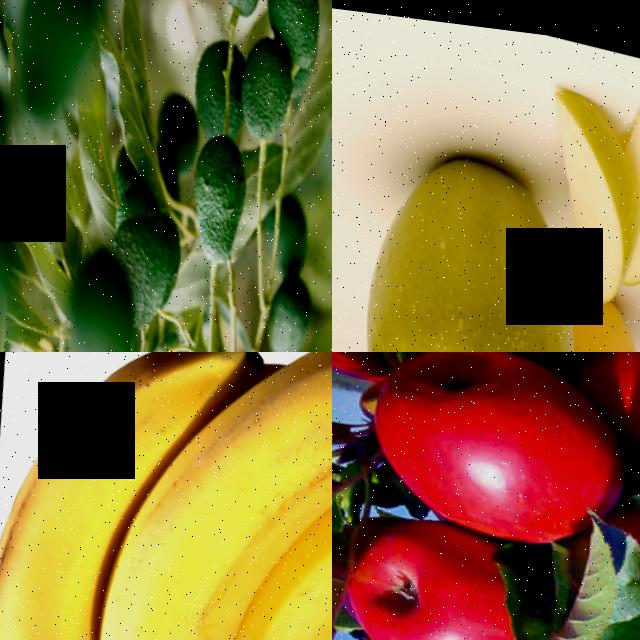apple: (357, 352, 640, 573), (332, 116, 596, 352), (332, 488, 576, 640), (534, 63, 640, 315), (616, 82, 640, 295)
avocado: (44, 232, 153, 352), (175, 120, 251, 269), (98, 199, 190, 321), (177, 19, 249, 138), (227, 28, 299, 137), (251, 261, 316, 352), (145, 76, 199, 167), (258, 181, 316, 265), (254, 0, 328, 65)
banana: (0, 352, 332, 640)
